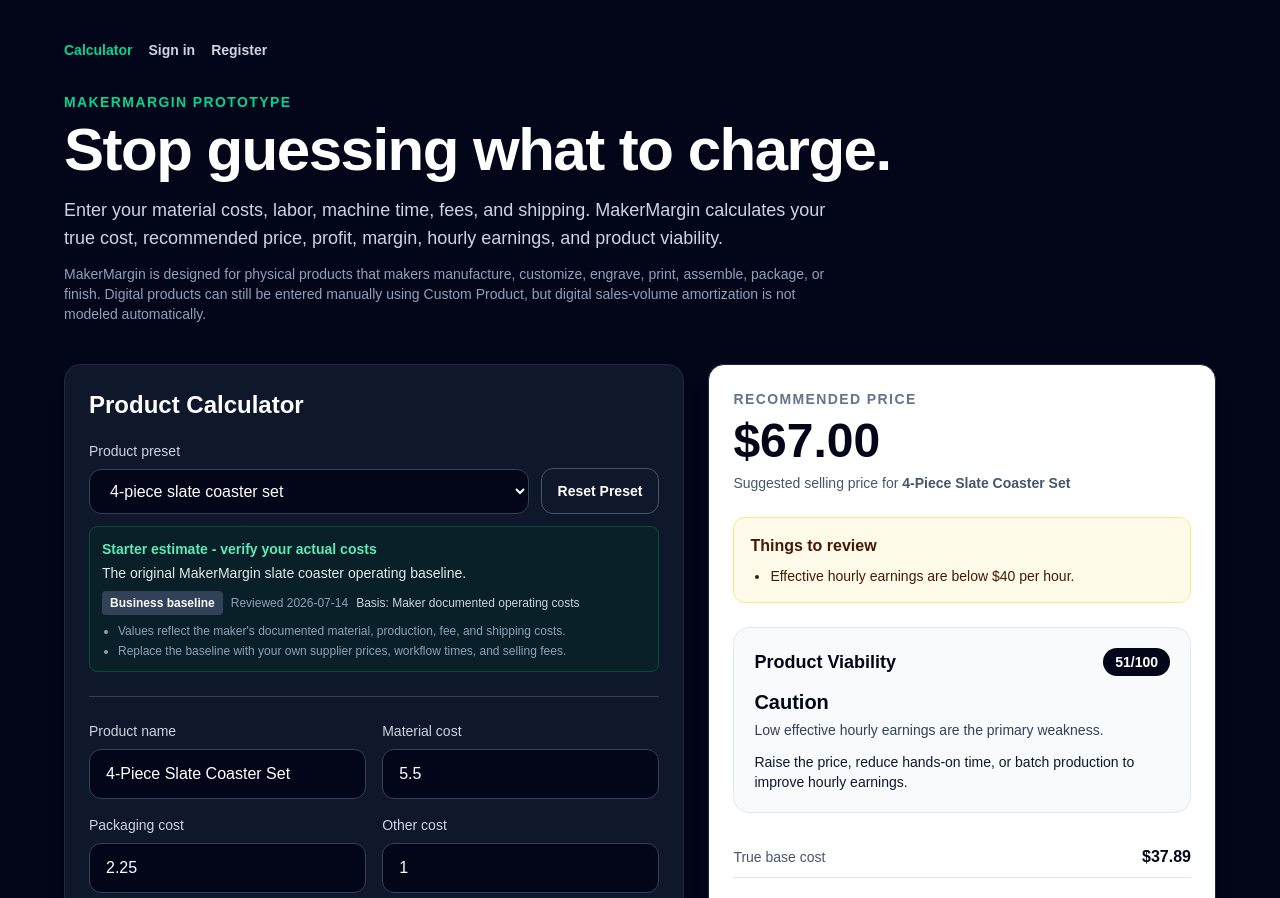
it: product preset calculator › selects leather-journal
Select "Leather journal" in the dropdown labelled "Product preset" at (309, 492), box [89, 469, 529, 514]
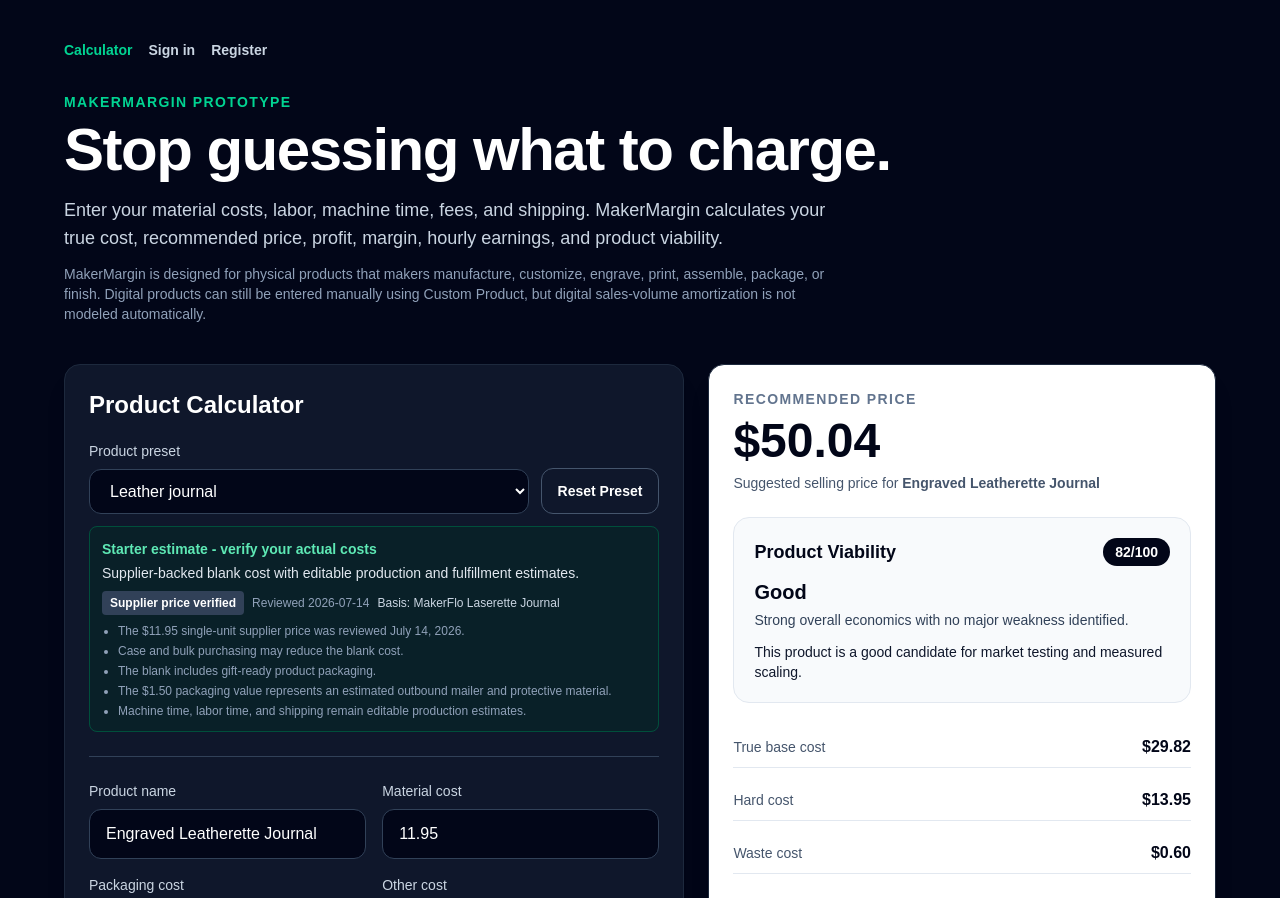
Now the field labelled "Product name" holds "Engraved Leatherette Journal", box [89, 809, 366, 859]
